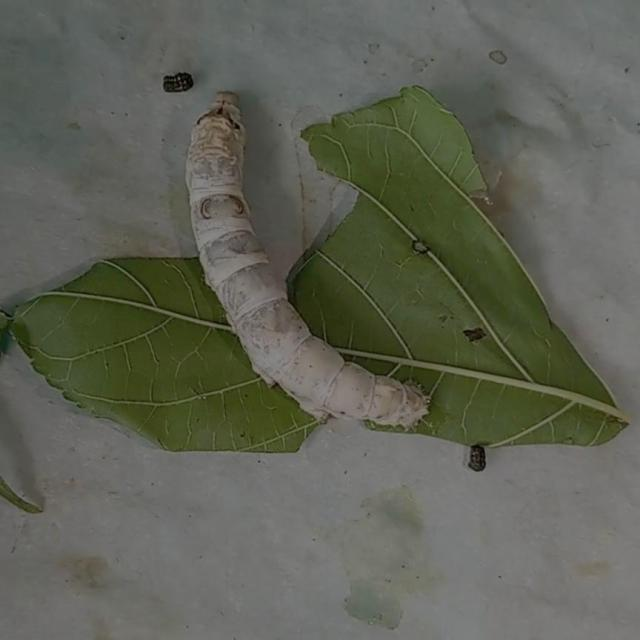Grasserie: (183, 74, 438, 438)
